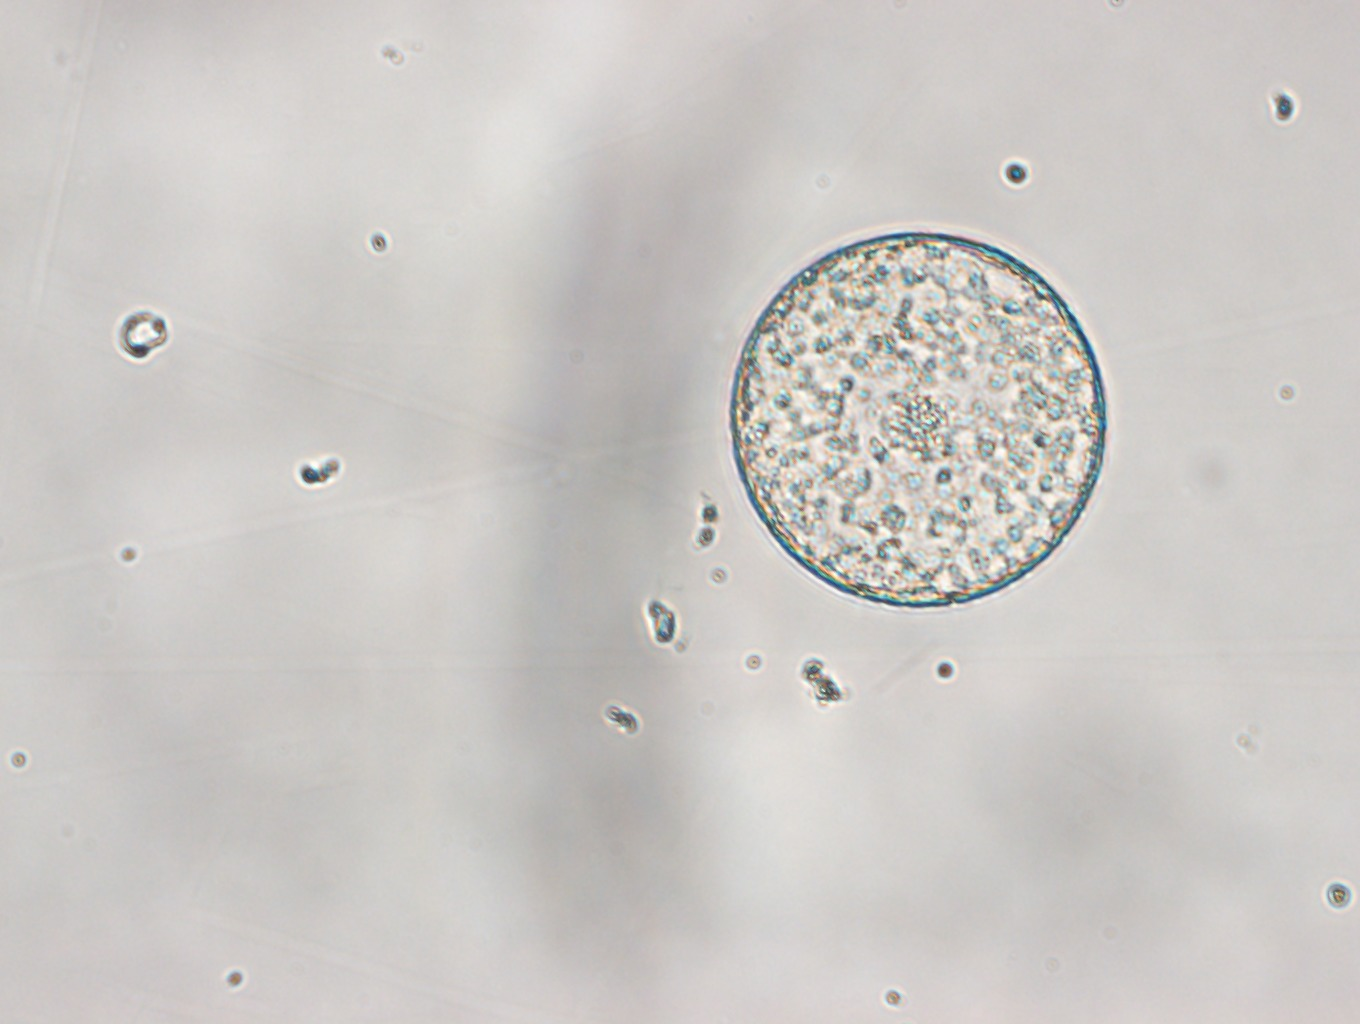coscinodiscus: (728, 229, 1108, 610)
